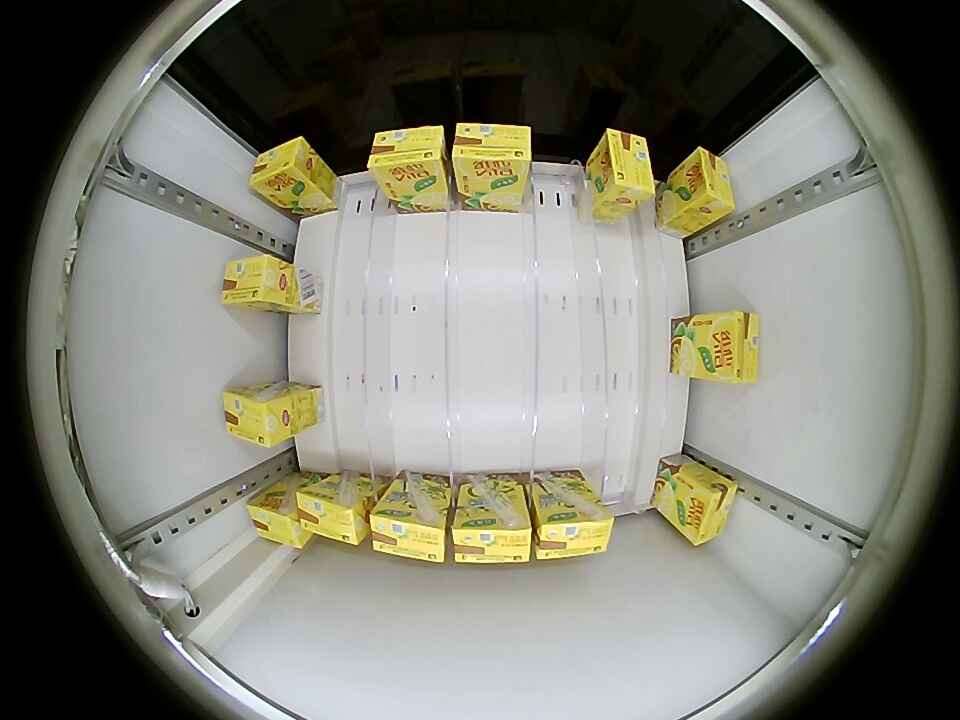weitaningmeng: (369, 499, 449, 563), (532, 500, 614, 561), (451, 505, 533, 565), (295, 480, 368, 546), (451, 122, 533, 180), (368, 125, 448, 183), (595, 128, 655, 204), (249, 136, 317, 202), (679, 474, 739, 546), (222, 385, 287, 448), (247, 488, 310, 550), (683, 147, 734, 219), (221, 255, 286, 311), (710, 311, 759, 384)
